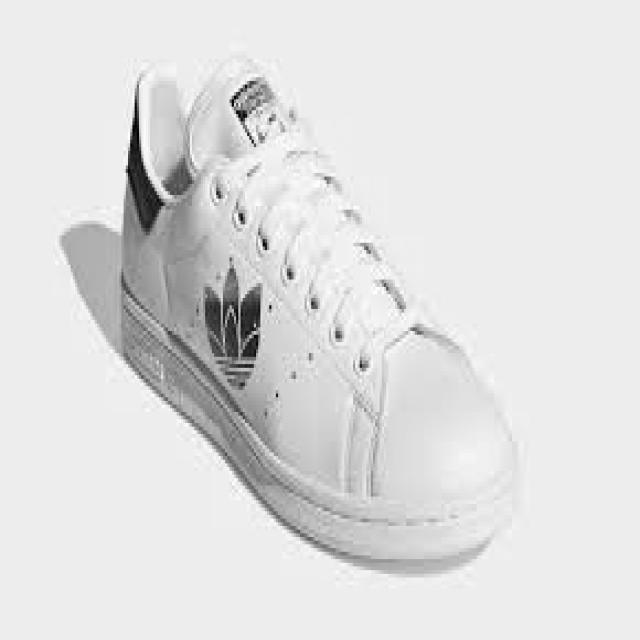Adidas: (185, 246, 274, 412)
